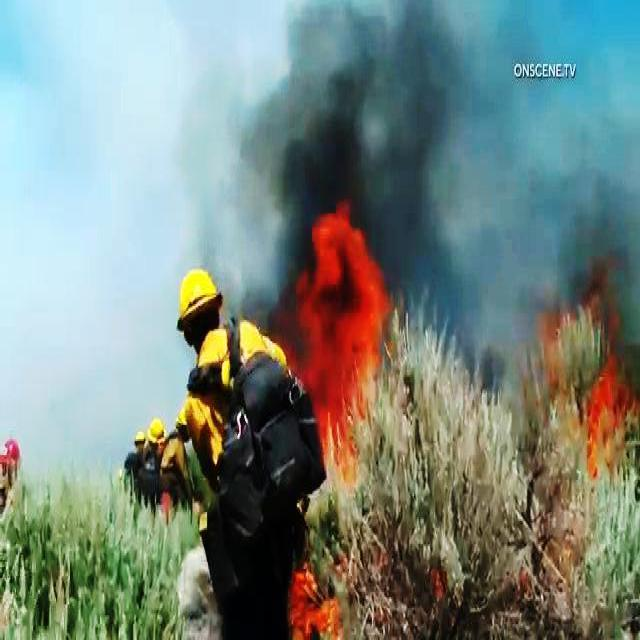Fire: (284, 204, 392, 488), (560, 328, 632, 476), (286, 563, 346, 640)
Smoke: (130, 5, 640, 205), (0, 0, 172, 426), (394, 210, 638, 328), (176, 210, 289, 278)
